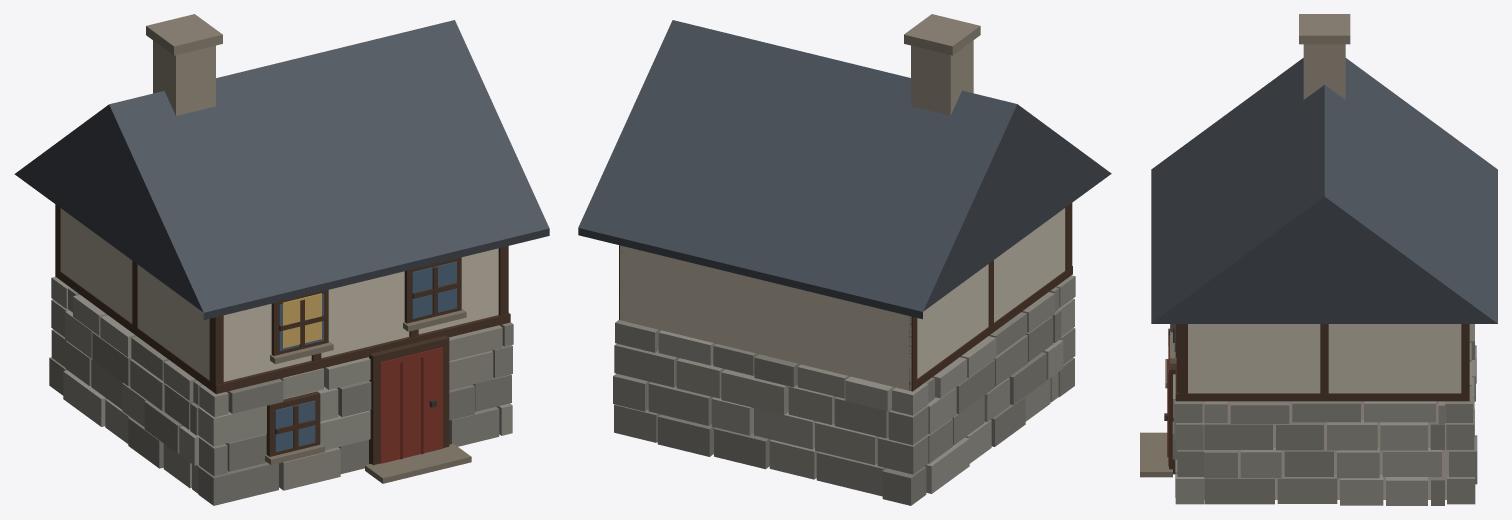
Rendered from house_b.glb.
3 renders of one model, left to right at view 1: azimuth 30°, elevation 25°; view 2: azimuth 150°, elevation 25°; view 3: azimuth 270°, elevation 25°, orthographic. The views are drawn at different scales.
Parts seen in each view (by area): view 1: house_b, house_b_w1_glow; view 2: house_b; view 3: house_b.
Part boxes in pixels (<box>): house_b: <box>14,14,549,505</box>; house_b_w1_glow: <box>282,293,321,348</box>; house_b: <box>578,14,1111,505</box>; house_b: <box>1140,14,1497,505</box>.
Size of the model in its own units: 3.9 by 4.35 by 3.82.
